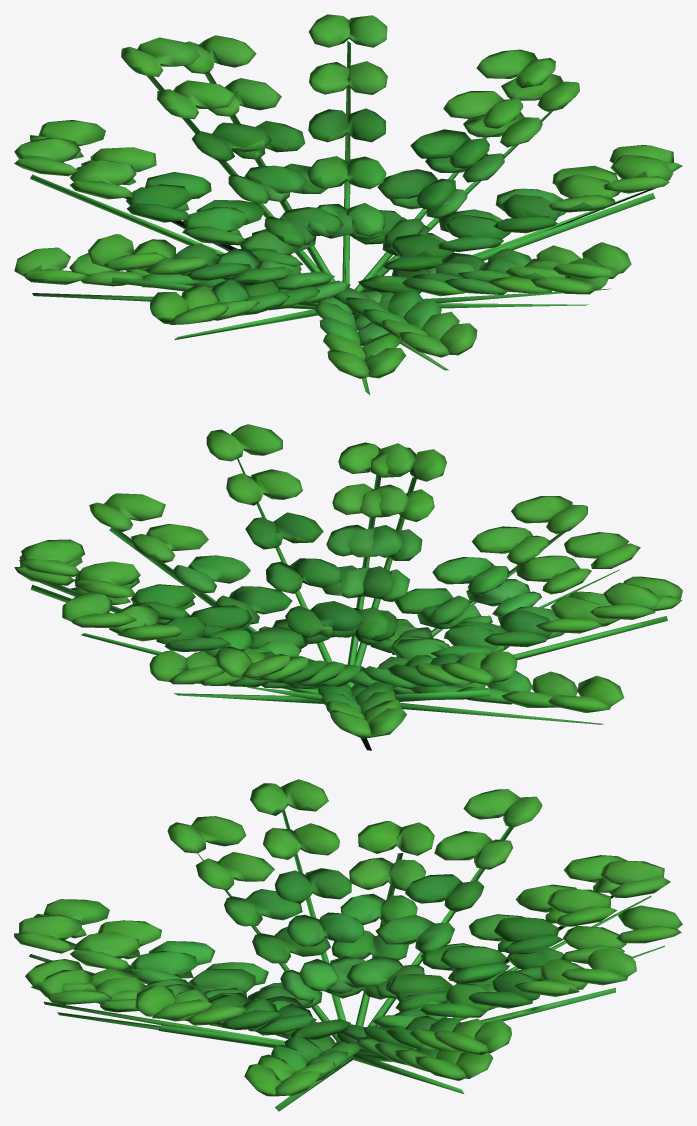
Rendered from crop_watercress.glb.
The picture shows the model from 3 angles, top to bottom: view 1: azimuth 30°, elevation 25°; view 2: azimuth 150°, elevation 25°; view 3: azimuth 270°, elevation 25°; orthographic projection. The views are drawn at different scales.
Visible parts, largest first — view 1: crop_watercress, fruit; view 2: crop_watercress, fruit; view 3: crop_watercress, fruit.
Part boxes in pixels (bbox=[...]): crop_watercress: bbox=[30, 40, 655, 394]; fruit: bbox=[14, 14, 682, 378]; crop_watercress: bbox=[30, 458, 667, 750]; fruit: bbox=[14, 424, 682, 738]; crop_watercress: bbox=[29, 810, 664, 1111]; fruit: bbox=[14, 779, 682, 1096].
Size of the model in its own units: 0.2815 by 0.0753 by 0.2761.
1 material, 1 textured.
